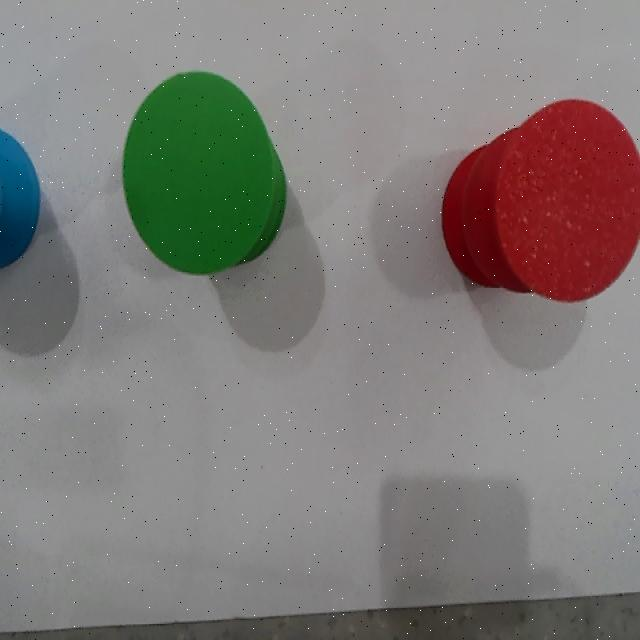g: (125, 71, 274, 275)
